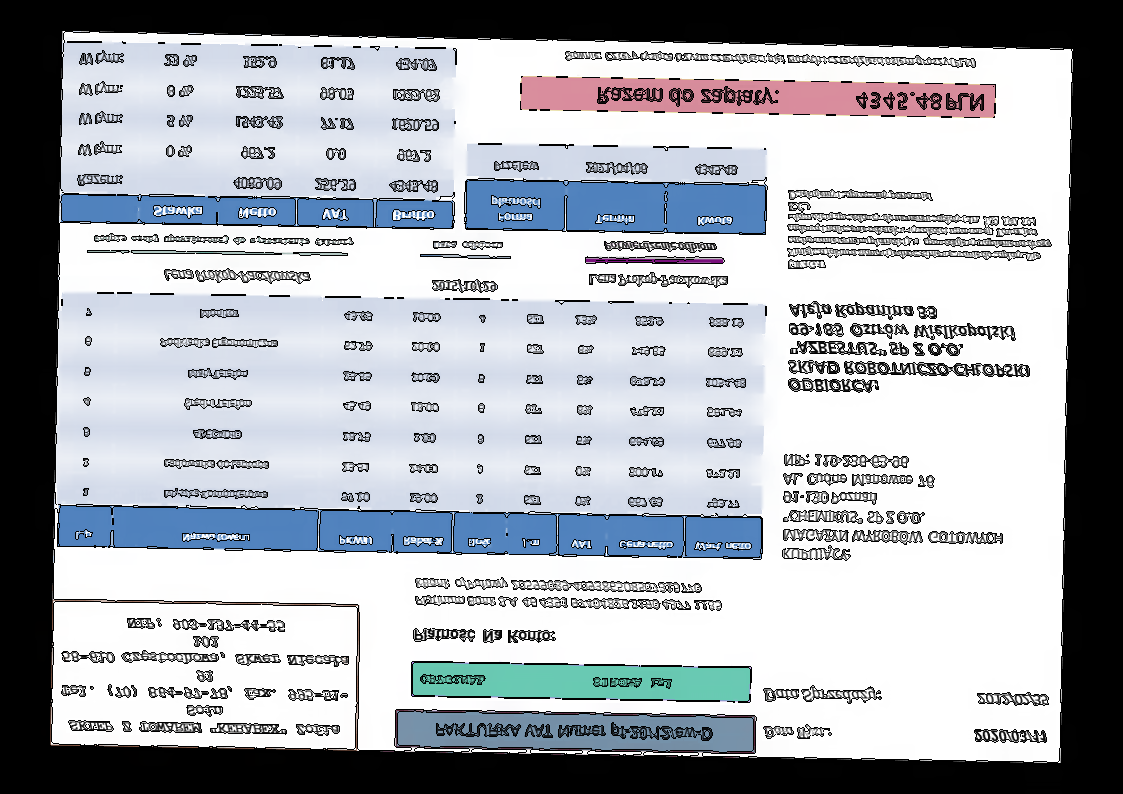Table: (55, 290, 768, 560), (60, 39, 458, 230), (464, 142, 769, 236)
TextBox: (56, 616, 353, 738), (780, 451, 1007, 568), (786, 300, 1033, 398), (785, 187, 1055, 276), (412, 575, 724, 614), (596, 83, 986, 114), (563, 49, 978, 70), (433, 718, 716, 745), (419, 672, 676, 692), (91, 232, 355, 248), (162, 266, 312, 286), (412, 626, 558, 646), (585, 271, 728, 291), (762, 684, 885, 705), (601, 239, 717, 256), (973, 727, 1049, 745), (975, 690, 1049, 708), (762, 724, 833, 742), (431, 277, 498, 295), (431, 238, 503, 253)
